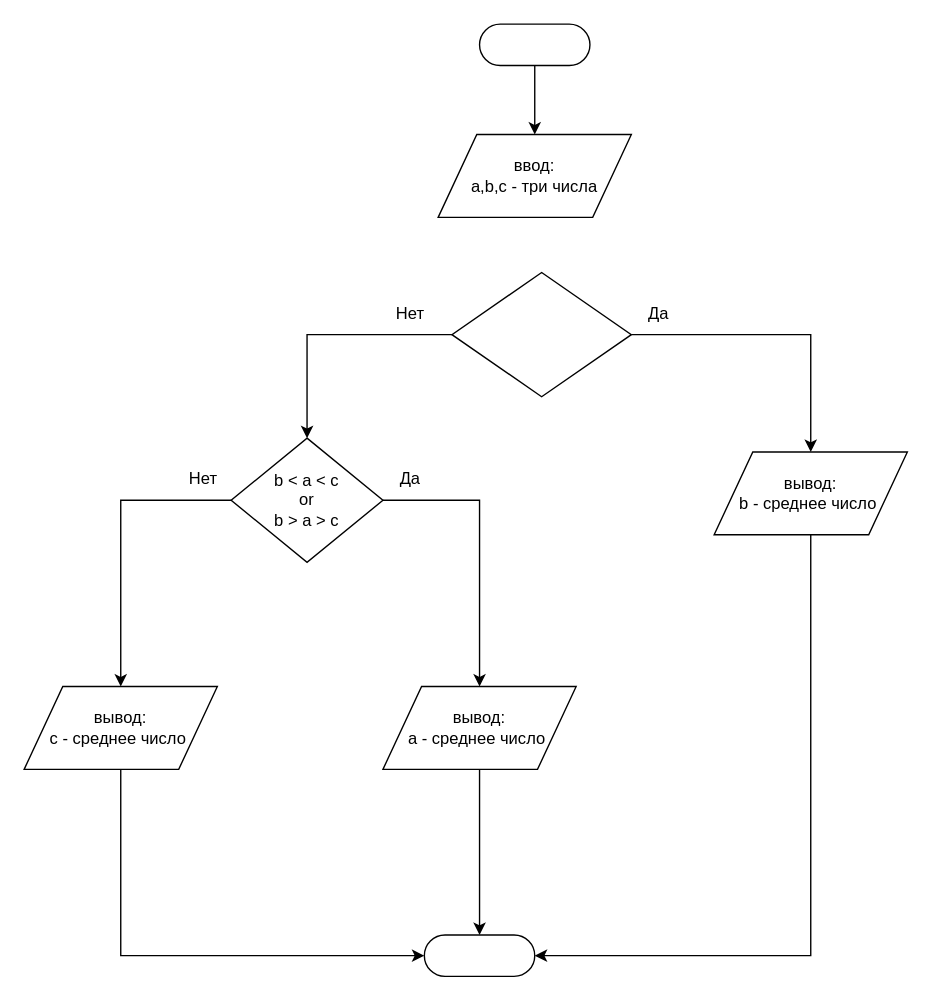
Image size: 932x1001. Some labels were removed from this diagram. Each missing label, with the box of its shape:
a <b <c or a> b > c: (451, 271, 631, 397)
Конец: (423, 934, 535, 976)
начало: (478, 23, 590, 66)
